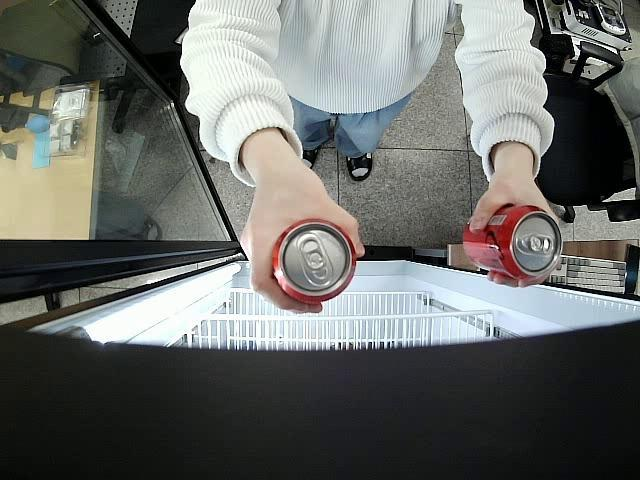11_cocaColaZero: (463, 206, 562, 282), (272, 218, 355, 305)
